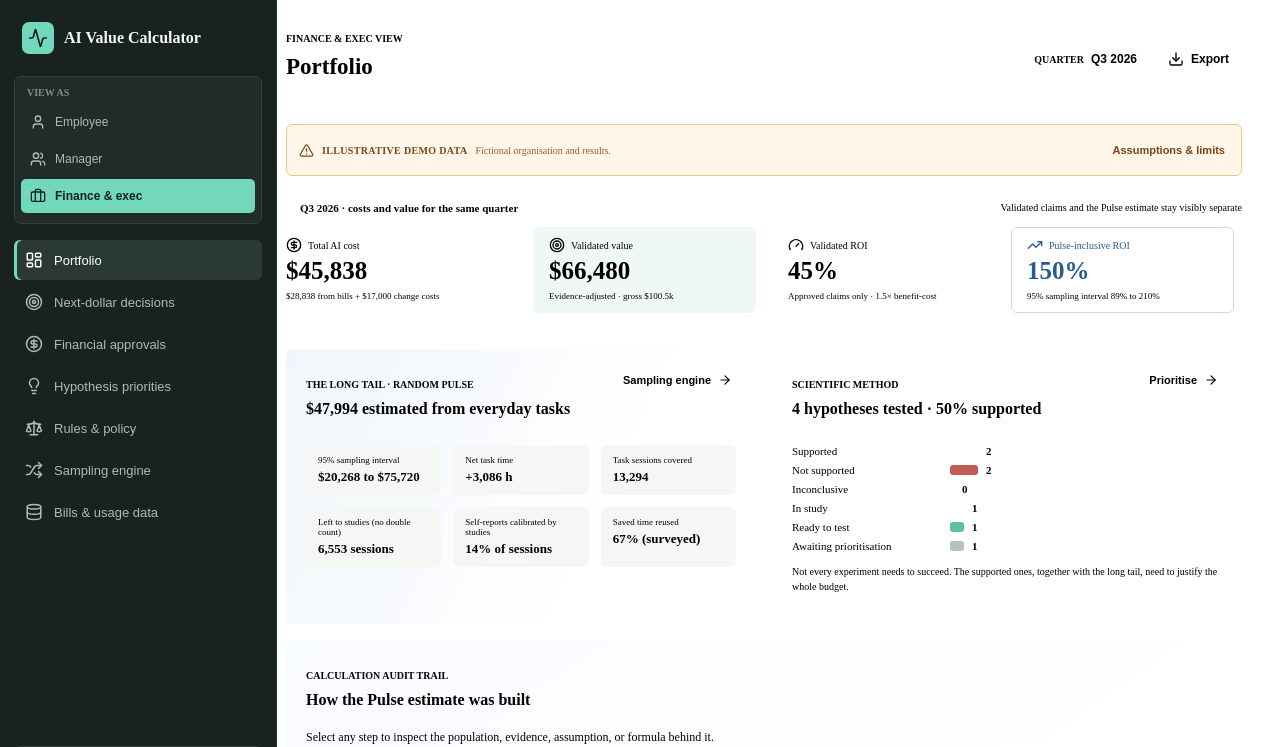
Test case: Manager: signals to tested hypotheses › shows team signals, hides small groups, and marks work measured by a study
The width and height of the screenshot is (1280, 747).
Click the button "Manager" at (138, 159), box [21,142,255,176]
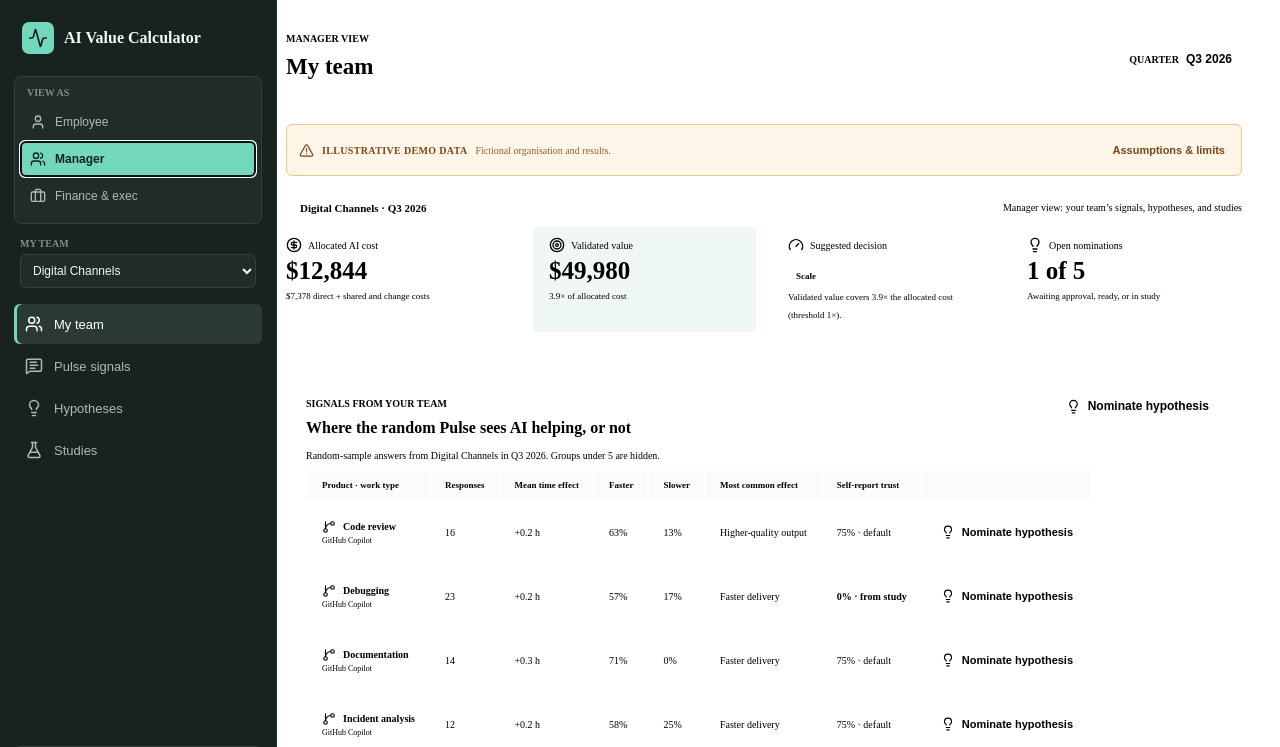
Result: the heading "My team" is shown at [286,54,374,79]
Result: the text "1 of 5" is shown at [1027,257,1085,284]
